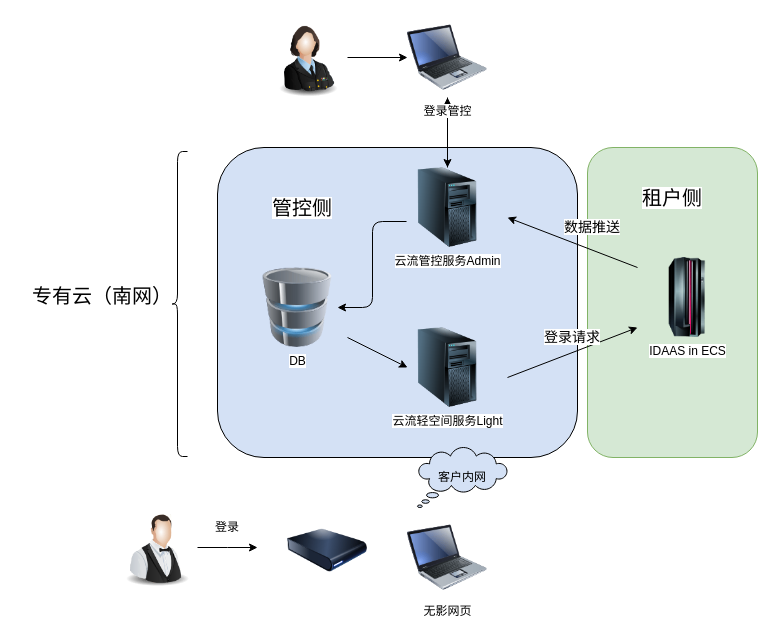
The diagram is 775 pixels wide and 635 high, and some of its shapes have lost their labels. Each missing label, with the centre of its shape:
客户: [157,547]
无影终端: [327,550]
运营小二: [307,57]
